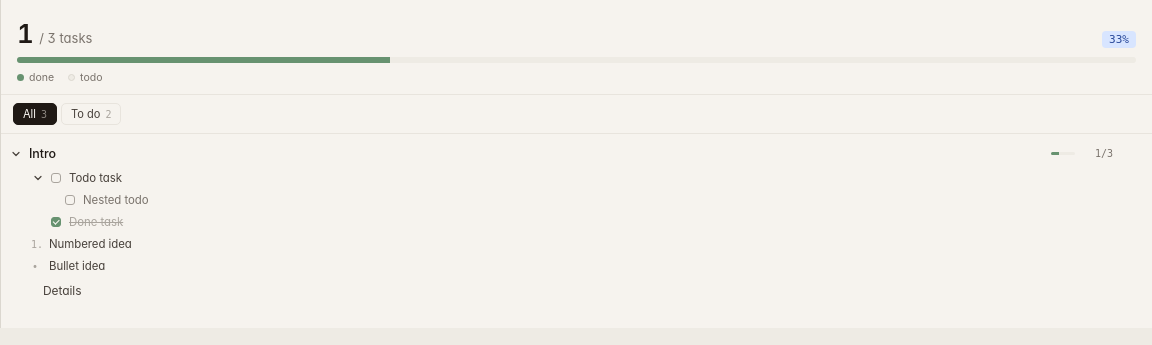
OutlinePane › filters to unfinished tasks and hides list rows in to-do mode
The width and height of the screenshot is (1152, 345).
Expected: the text "Todo task" is shown, [69,171,122,185]
Expected: the text "Done task" is shown, [69,215,123,229]
Step 1. Click the button "To do 2" → (91, 114), box [61,103,121,125]
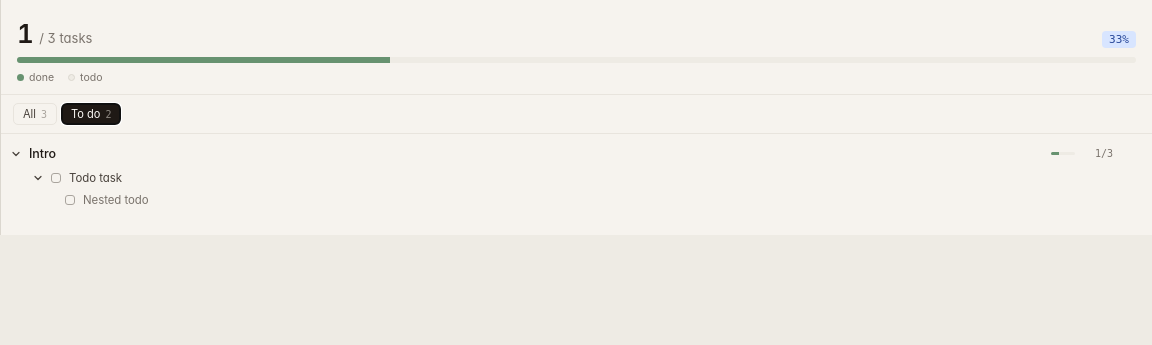
Expected: the text "Done task" is gone
Expected: the text "Numbered idea" is gone
Expected: the text "Bullet idea" is gone
